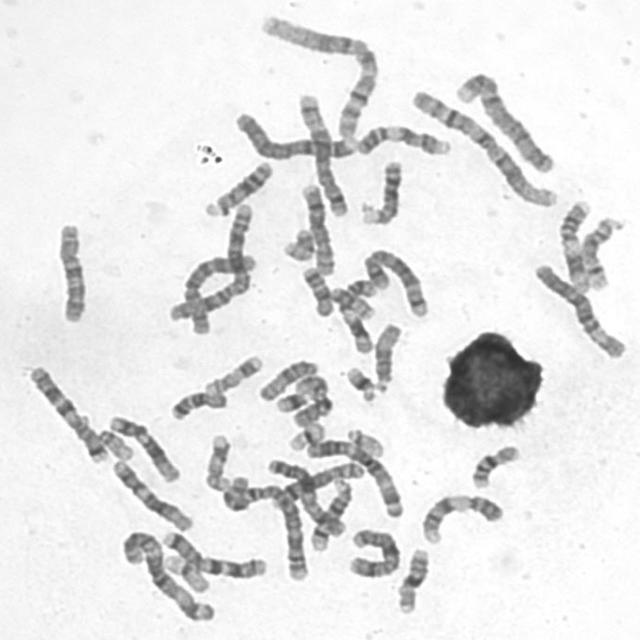A1: (406, 86, 560, 210), (254, 11, 381, 139)
A2: (172, 199, 256, 332), (218, 473, 311, 583)
A3: (116, 526, 217, 624), (302, 434, 406, 520)
B4: (451, 67, 557, 175), (228, 107, 358, 161)
B5: (292, 89, 351, 219), (358, 243, 431, 320)
C10: (52, 217, 89, 325), (288, 371, 334, 428)
C11: (555, 195, 594, 294), (334, 274, 379, 355)
C12: (108, 455, 194, 533), (103, 411, 182, 484)
C6: (530, 258, 630, 361), (166, 248, 258, 324)
C7: (23, 360, 112, 466), (157, 526, 270, 580)
C8: (265, 458, 367, 510), (296, 180, 336, 278)
C9: (417, 488, 508, 546), (351, 120, 454, 158)
D13: (199, 156, 275, 219), (356, 155, 404, 227)
D14: (306, 474, 356, 552), (577, 213, 626, 292)
D15: (253, 356, 320, 404), (369, 319, 404, 395)
E16: (392, 544, 431, 616), (467, 440, 523, 490)
E17: (199, 350, 266, 397), (199, 429, 234, 494)
E18: (166, 386, 229, 422), (297, 262, 335, 318)
F19: (159, 549, 212, 595), (284, 418, 328, 452)
F20: (328, 283, 377, 322), (278, 224, 316, 264)
G21: (342, 362, 379, 404), (271, 386, 310, 414)
G22: (342, 424, 387, 459), (94, 425, 136, 462)
X: (262, 454, 350, 540), (343, 524, 402, 580)
